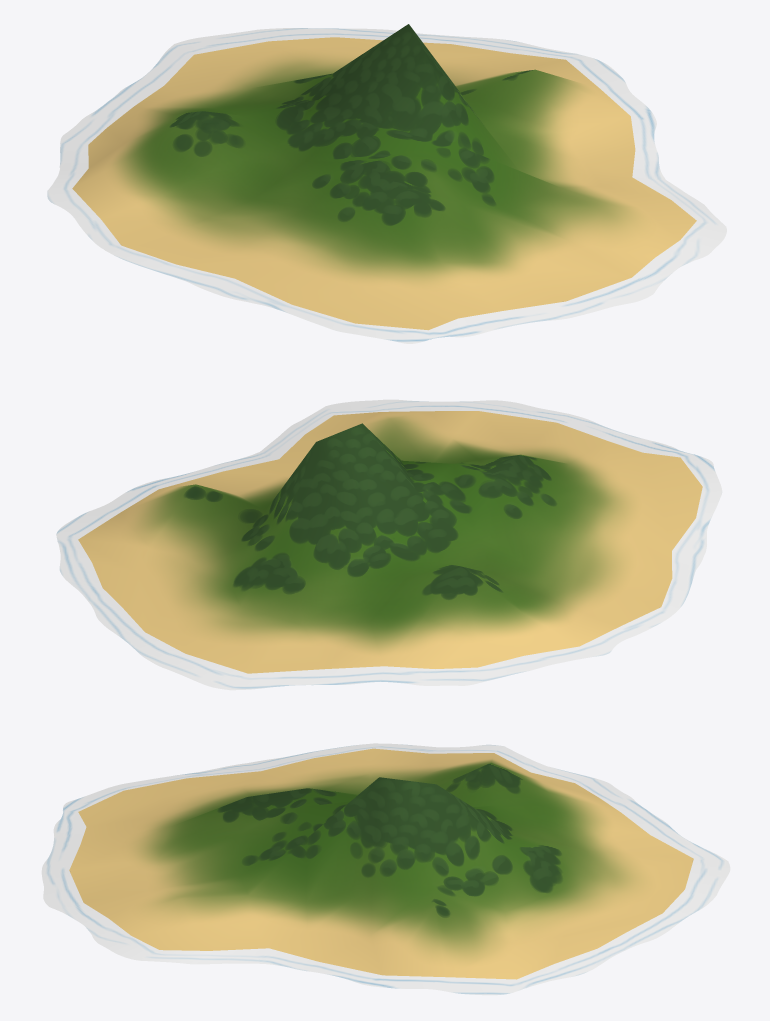
The model's file is island.fbx.
The picture shows the model from 3 angles, top to bottom: view 1: azimuth 30°, elevation 25°; view 2: azimuth 150°, elevation 25°; view 3: azimuth 270°, elevation 25°; orthographic projection. The views are drawn at different scales.
Parts seen in each view (by area): view 1: island, polymsh_detached; view 2: island, polymsh_detached; view 3: island, polymsh_detached.
Boxes of the visible parts, <box> form: island: <box>72,24,696,330</box>; polymsh_detached: <box>47,28,726,343</box>; island: <box>78,411,702,673</box>; polymsh_detached: <box>56,399,722,690</box>; island: <box>69,748,693,979</box>; polymsh_detached: <box>41,743,730,995</box>.
Bounding box in the file's own units: 754 × 143 × 863.
